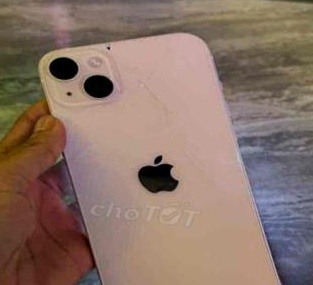physical_damage: (120, 67, 191, 116), (107, 194, 193, 234), (169, 148, 234, 180), (207, 176, 268, 208), (116, 245, 167, 283), (92, 163, 142, 195), (114, 220, 168, 249), (83, 137, 136, 166), (152, 116, 199, 148), (106, 112, 150, 141), (151, 33, 186, 65), (99, 42, 137, 69), (172, 268, 226, 285), (216, 270, 275, 285), (63, 152, 90, 177)
